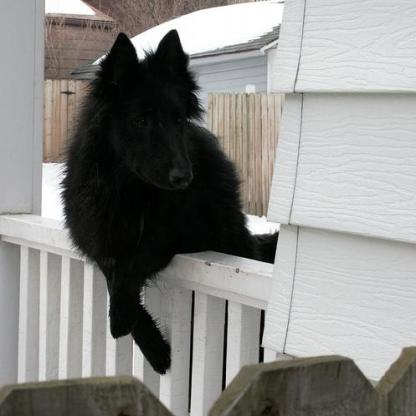groenendael: (64, 20, 278, 378)
